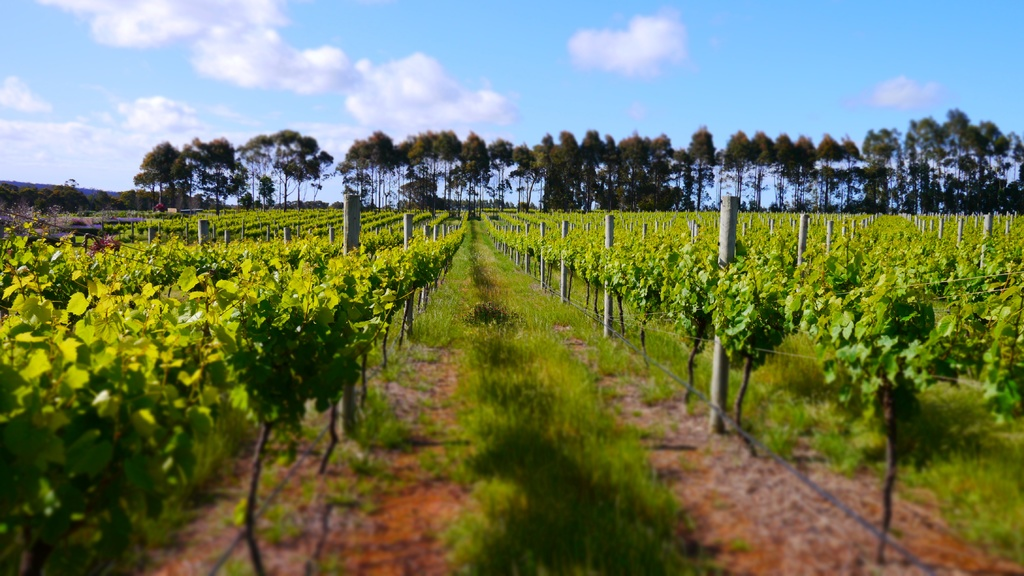Tree: (0, 107, 1024, 216)
